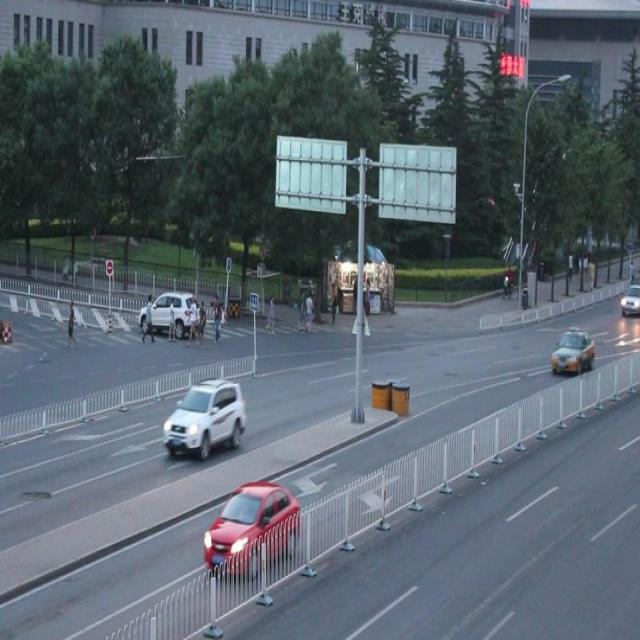car: (202, 483, 300, 567), (162, 380, 245, 458), (138, 287, 202, 339), (550, 324, 592, 372), (620, 282, 640, 314)
